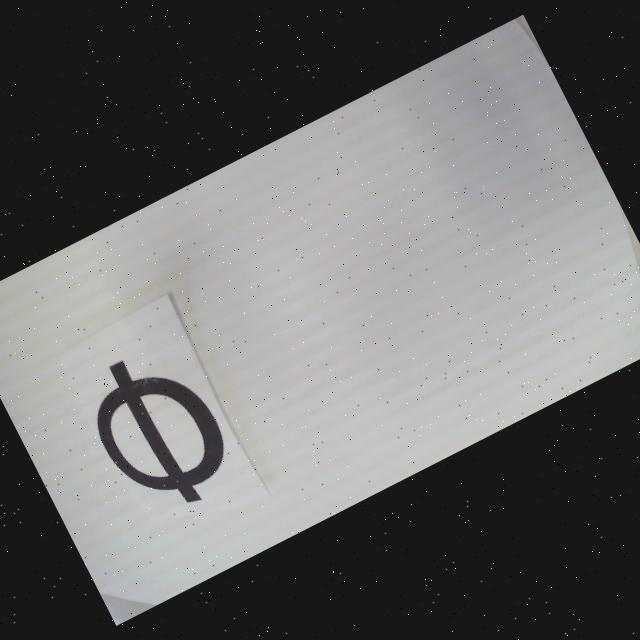PHI: (72, 333, 244, 528)
